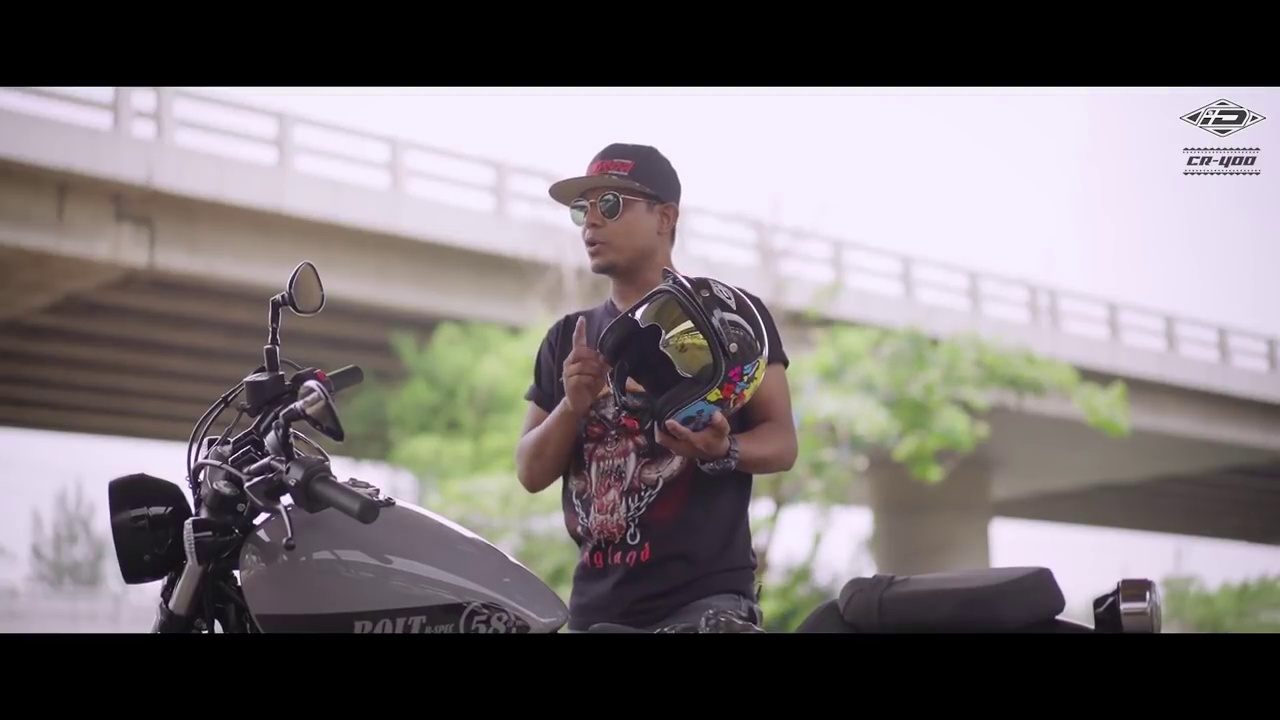helmet: (592, 268, 770, 434)
